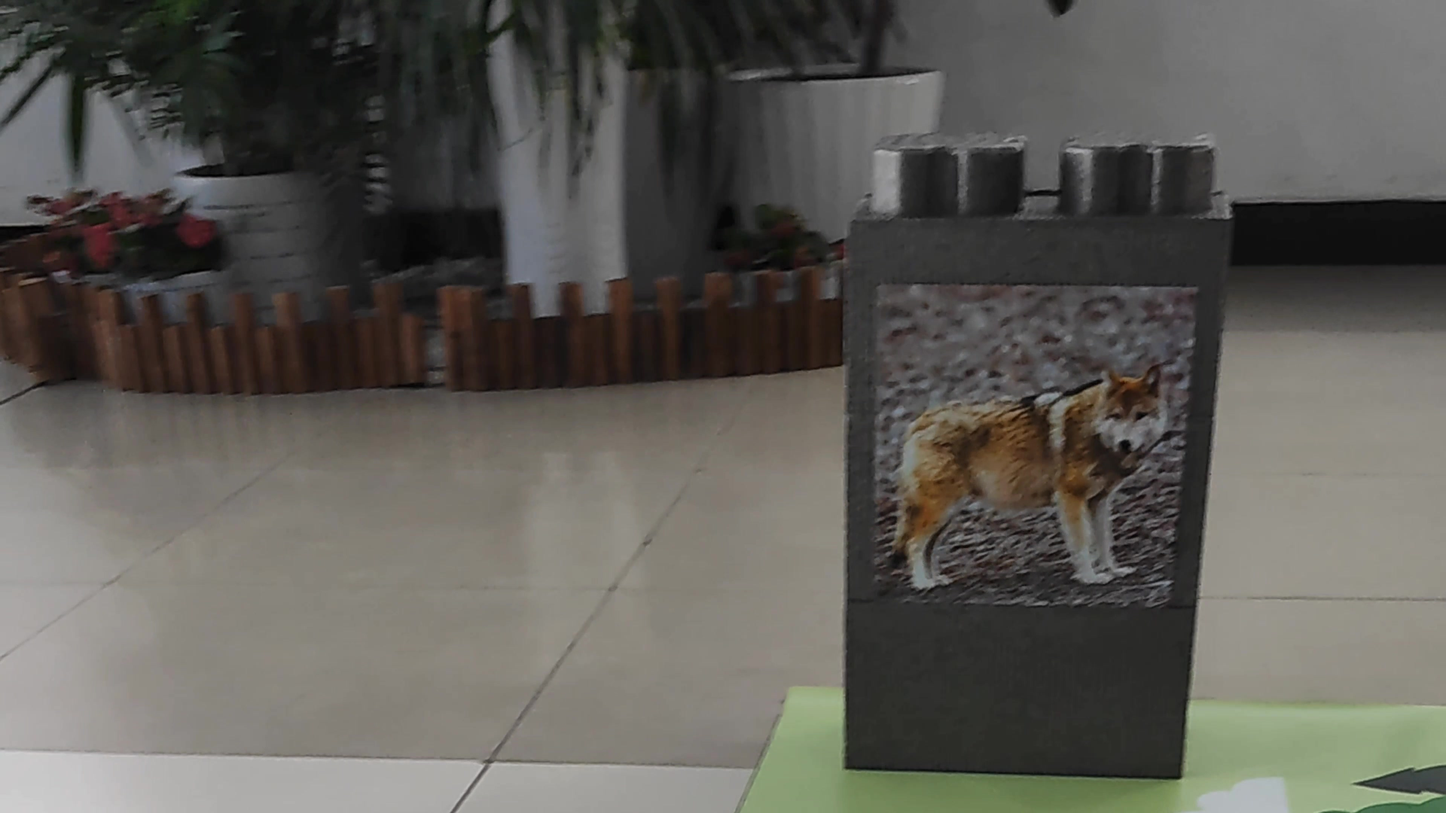wolf: (875, 295, 1173, 585)
